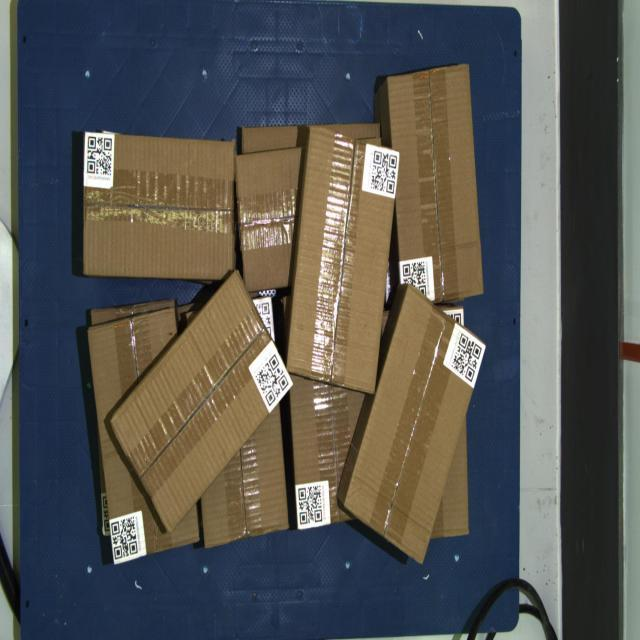box: (110, 270, 294, 534), (343, 282, 488, 566), (287, 126, 400, 394), (388, 62, 483, 302), (84, 132, 234, 280)
